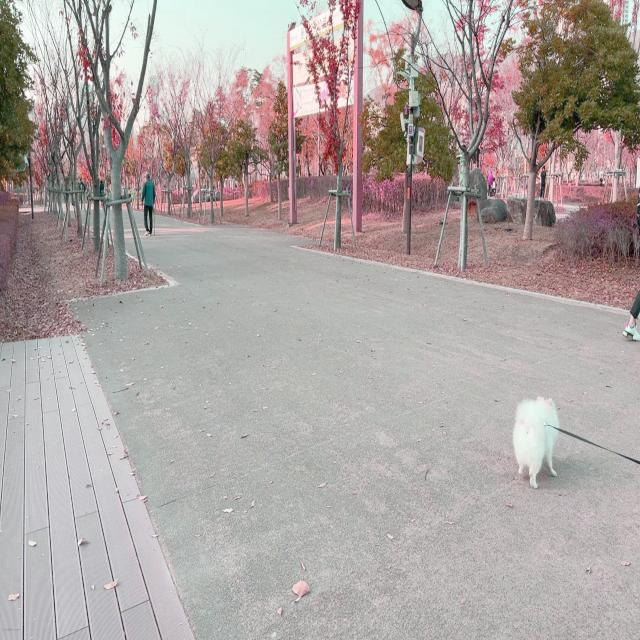Dog: (512, 394, 559, 490)
